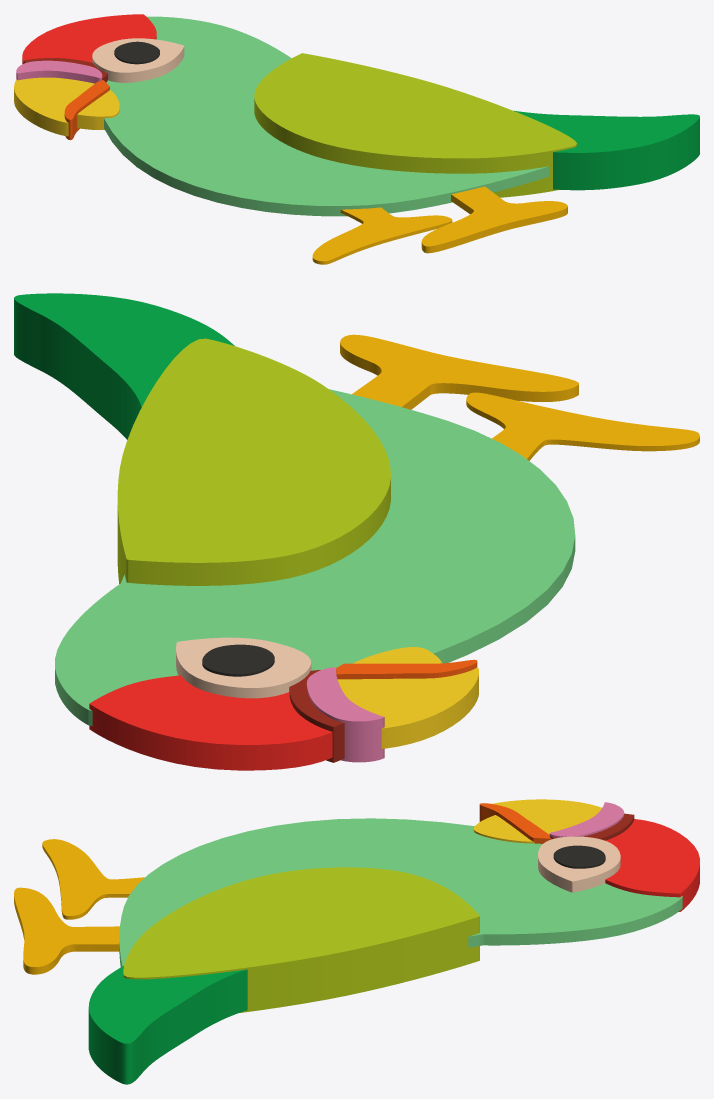
File: emoji_u1f99c.glb
The picture shows the model from 3 angles, top to bottom: view 1: azimuth 30°, elevation 25°; view 2: azimuth 150°, elevation 25°; view 3: azimuth 270°, elevation 25°; orthographic projection. The views are drawn at different scales.
Visible parts, largest first — view 1: emoji_u1f99c; view 2: emoji_u1f99c; view 3: emoji_u1f99c.
Boxes of the visible parts, box(x1,y1,x2,y2) form: emoji_u1f99c: box(14, 14, 699, 264); emoji_u1f99c: box(14, 293, 699, 770); emoji_u1f99c: box(14, 799, 699, 1084).
Bounding box in the file's own units: 0.0298 × 0.0024 × 0.0336.
